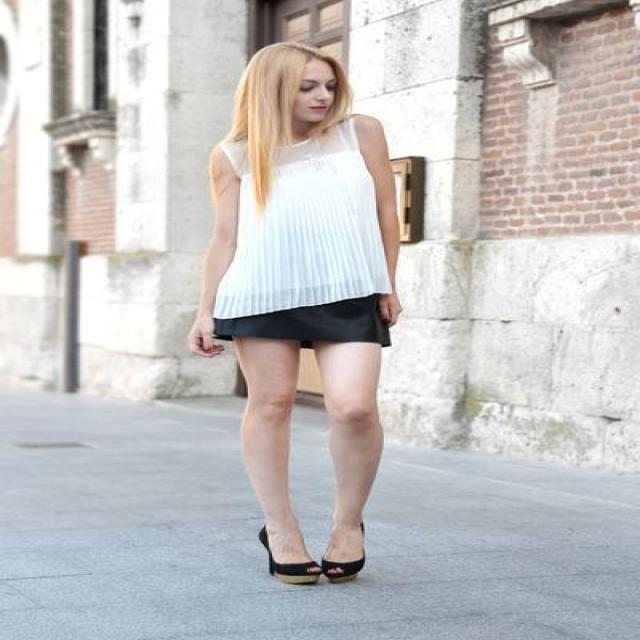shirt: (213, 120, 400, 318)
shoe: (267, 550, 363, 589)
skirt: (212, 294, 394, 348)
